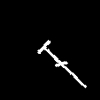double_crochet: (38, 40, 85, 87)
